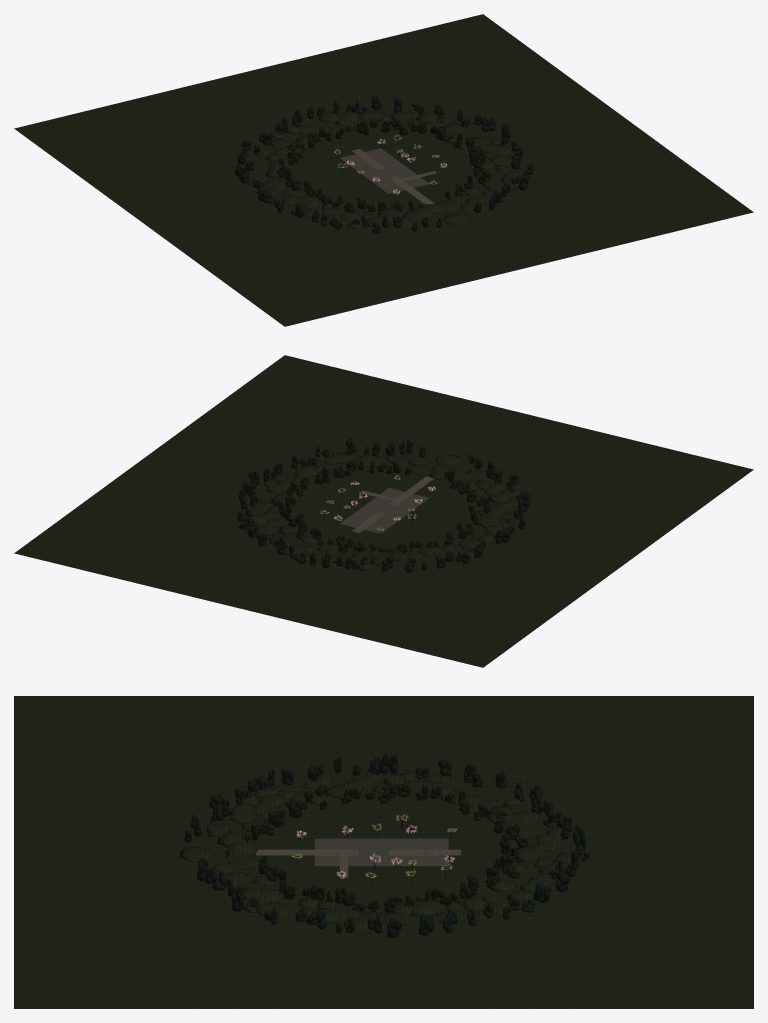
Rendered from TojiCourtyard.glb.
3 renders of one model, top to bottom at view 1: azimuth 30°, elevation 25°; view 2: azimuth 150°, elevation 25°; view 3: azimuth 270°, elevation 25°, orthographic. The views are drawn at different scales.
Parts seen in each view (by area): view 1: Toji_Precinct_Ground, Toji_Grove_Understory, Toji_Distant_Kyoto_Grove, Toji_Gravel_Court, Toji_Sando_Stonework; view 2: Toji_Precinct_Ground, Toji_Distant_Kyoto_Grove, Toji_Grove_Understory, Toji_Gravel_Court, Toji_Sando_Stonework; view 3: Toji_Precinct_Ground, Toji_Distant_Kyoto_Grove, Toji_Grove_Understory, Toji_Gravel_Court, Toji_Sando_Stonework.
Part boxes in pixels (box(x1,y1,x2,y2)): Toji_Precinct_Ground: box(14, 14, 753, 326); Toji_Grove_Understory: box(248, 110, 522, 229); Toji_Distant_Kyoto_Grove: box(234, 95, 533, 233); Toji_Gravel_Court: box(340, 148, 436, 204); Toji_Sando_Stonework: box(348, 149, 436, 204); Toji_Precinct_Ground: box(14, 355, 753, 667); Toji_Distant_Kyoto_Grove: box(237, 437, 529, 572); Toji_Grove_Understory: box(244, 453, 519, 571); Toji_Gravel_Court: box(340, 476, 430, 533); Toji_Sando_Stonework: box(352, 476, 433, 532); Toji_Precinct_Ground: box(14, 696, 753, 1008); Toji_Distant_Kyoto_Grove: box(184, 753, 589, 937); Toji_Grove_Understory: box(179, 771, 581, 932); Toji_Gravel_Court: box(256, 838, 448, 877); Toji_Sando_Stonework: box(256, 838, 460, 877).
Bounding box in the file's own units: 480 × 17.75 × 480.
16 materials, 10 textured.
